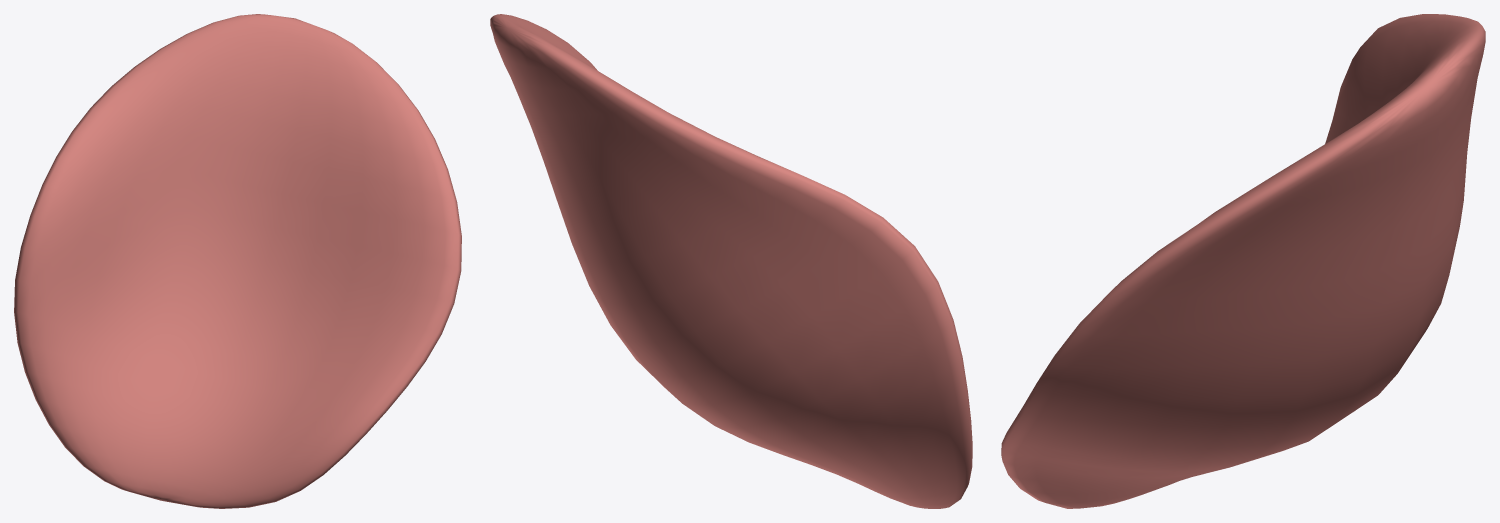
3 views of the same model, side by side, from view 1: azimuth 30°, elevation 25°; view 2: azimuth 150°, elevation 25°; view 3: azimuth 270°, elevation 25° (orthographic). The views are drawn at different scales.
Visible parts, largest first — view 1: ZA_e8e7144df8df2a0f; view 2: ZA_e8e7144df8df2a0f; view 3: ZA_e8e7144df8df2a0f.
Boxes of the visible parts, <box> form: ZA_e8e7144df8df2a0f: <box>14,14,461,508</box>; ZA_e8e7144df8df2a0f: <box>490,14,972,508</box>; ZA_e8e7144df8df2a0f: <box>1001,14,1485,508</box>.
Size of the model in its own units: 0.0264 by 0.0255 by 0.0204.
